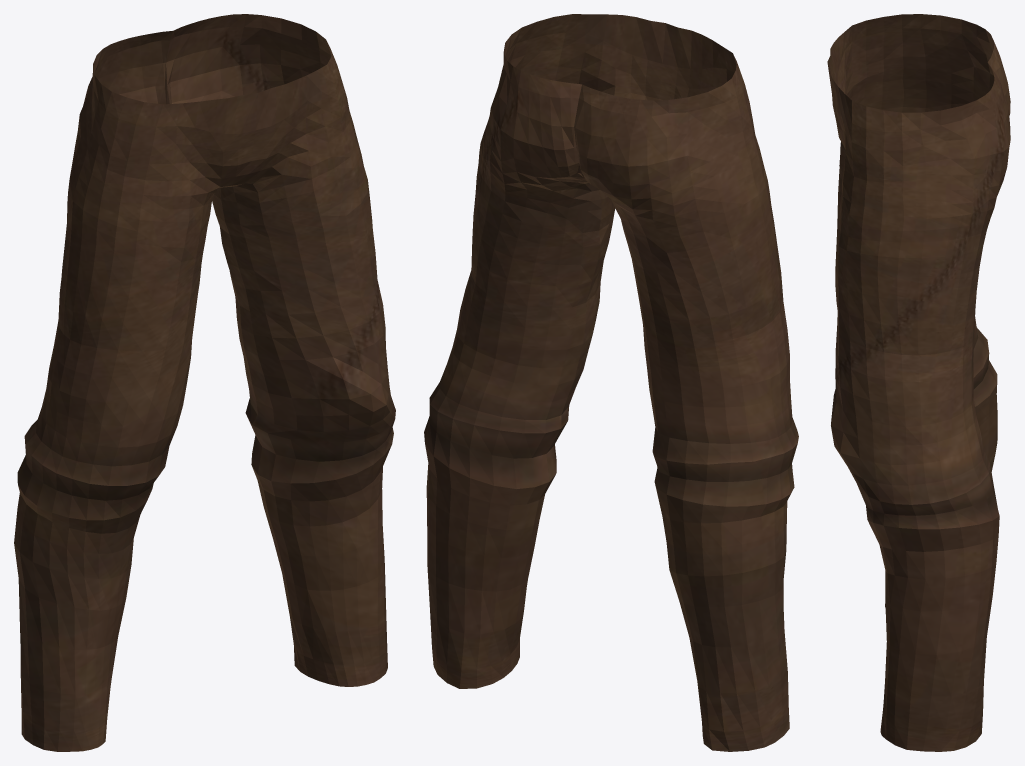
File: mhw_rehmanpolanski_viking_pants.glb
The picture shows the model from 3 angles, left to right: view 1: azimuth 30°, elevation 25°; view 2: azimuth 150°, elevation 25°; view 3: azimuth 270°, elevation 25°; orthographic projection. The views are drawn at different scales.
Parts seen in each view (by area): view 1: mhw_rehmanpolanski_viking_pants; view 2: mhw_rehmanpolanski_viking_pants; view 3: mhw_rehmanpolanski_viking_pants.
Part boxes in pixels (x1=…): mhw_rehmanpolanski_viking_pants: x1=14, y1=14, x2=395, y2=751; mhw_rehmanpolanski_viking_pants: x1=424, y1=14, x2=798, y2=751; mhw_rehmanpolanski_viking_pants: x1=827, y1=14, x2=1010, y2=751.
Bounding box in the file's own units: 0.5314 × 0.9275 × 0.2508.
1 material, 1 textured.
